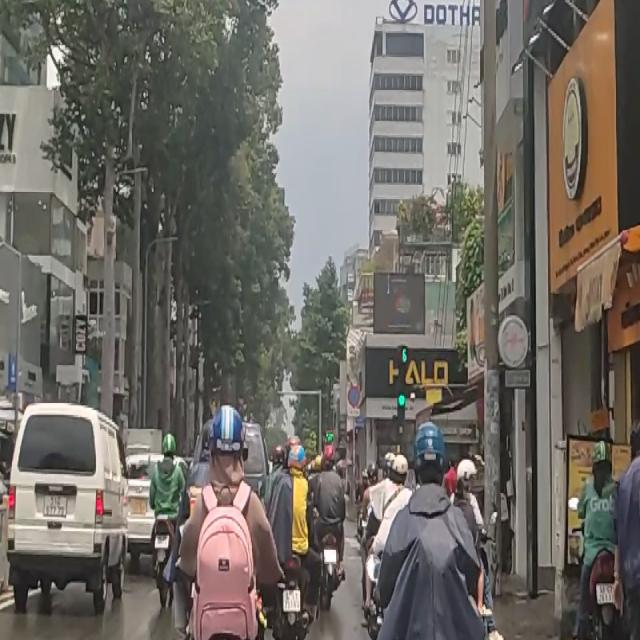Bien bao cam do xe: (347, 383, 360, 407)
